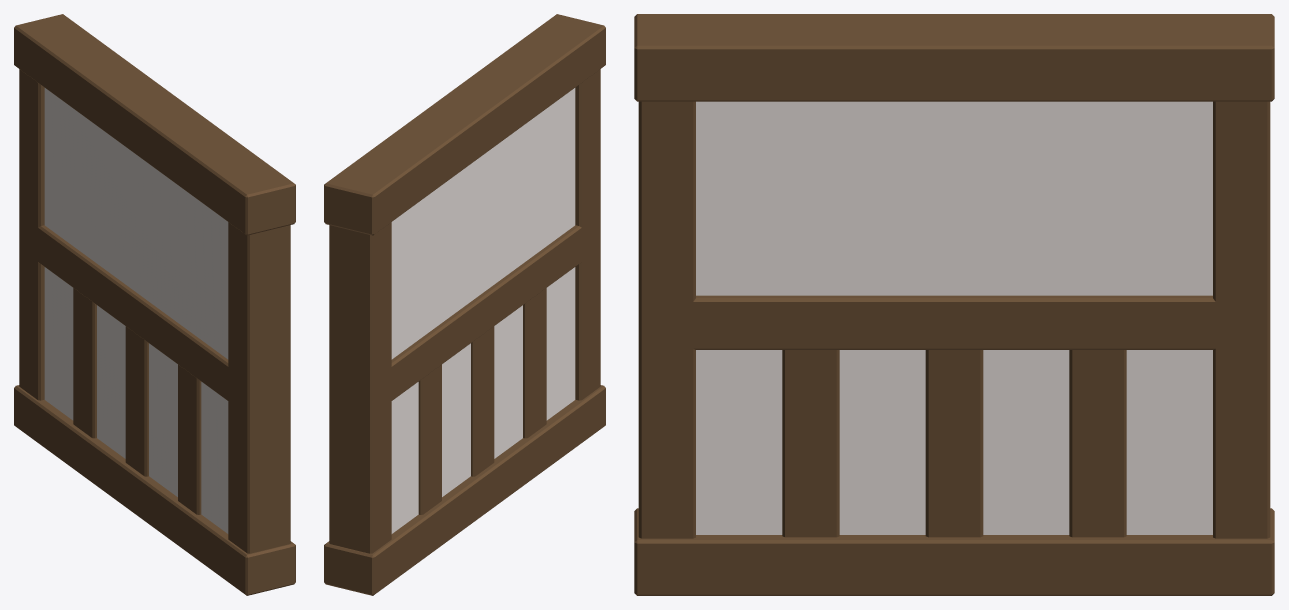
Rendered from Wall03.fbx.
3 views of the same model, side by side, from view 1: azimuth 30°, elevation 25°; view 2: azimuth 150°, elevation 25°; view 3: azimuth 270°, elevation 25° (orthographic). The views are drawn at different scales.
Visible parts, largest first — view 1: Wall_03; view 2: Wall_03; view 3: Wall_03.
Boxes of the visible parts, x1,y1,x2,y2 form: Wall_03: (14,14,295,595); Wall_03: (324,14,605,595); Wall_03: (634,14,1274,595).
Bounding box in the file's own units: 28 × 212 × 223.
